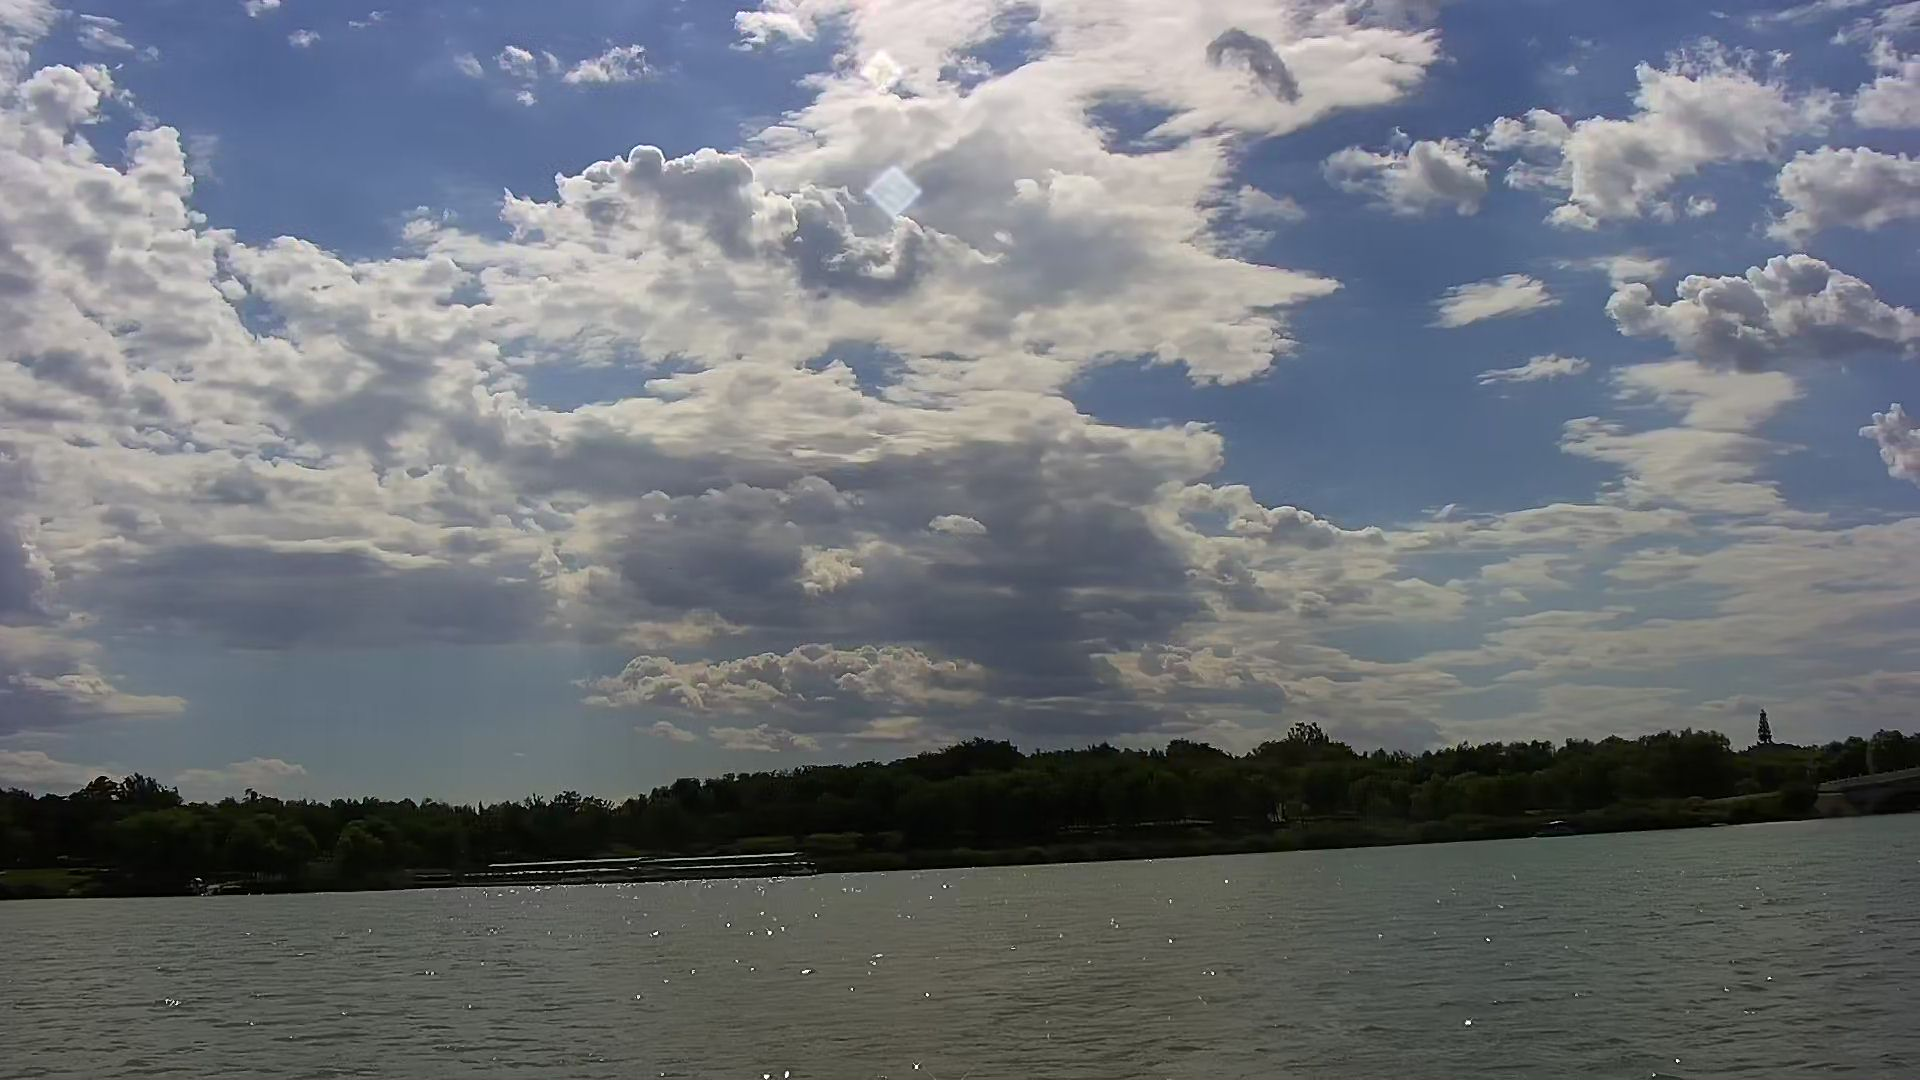harbor: (487, 840, 806, 887)
